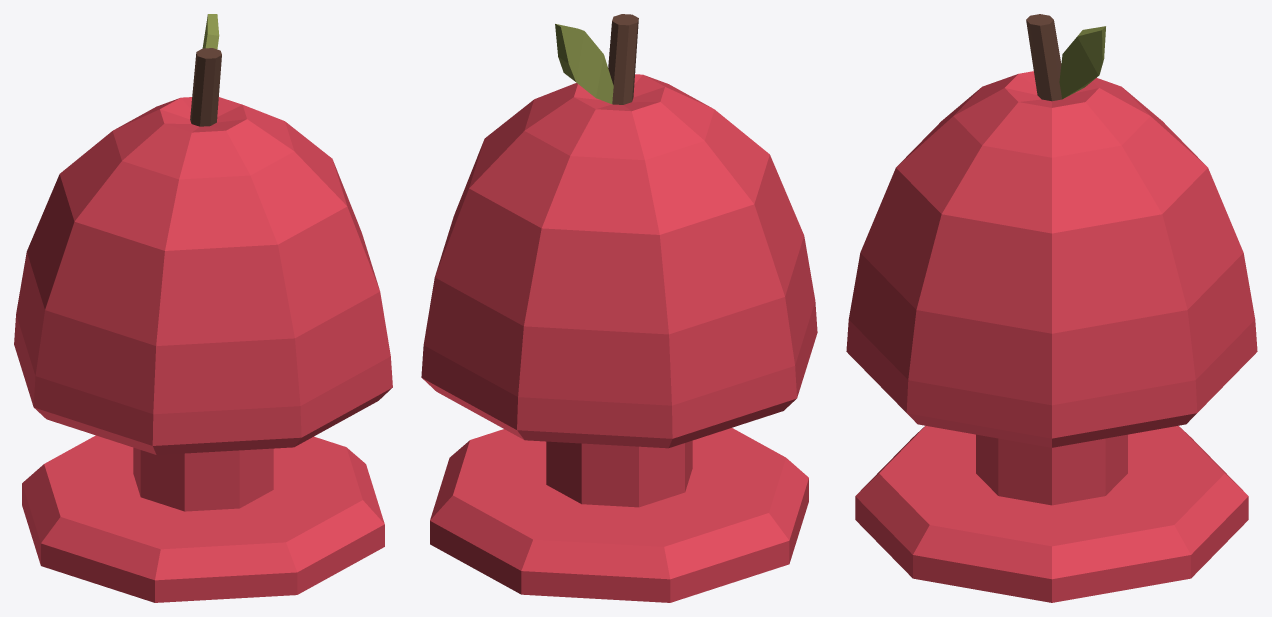
The model's file is VER 2 stopperberry.fbx.
3 renders of one model, left to right at view 1: azimuth 30°, elevation 25°; view 2: azimuth 150°, elevation 25°; view 3: azimuth 270°, elevation 25°, orthographic. The views are drawn at different scales.
Parts seen in each view (by area): view 1: stopperberry; view 2: stopperberry; view 3: stopperberry.
Part boxes in pixels (x1=…): stopperberry: x1=14, y1=14, x2=392, y2=602; stopperberry: x1=421, y1=14, x2=817, y2=602; stopperberry: x1=846, y1=14, x2=1257, y2=602.
Size of the model in its own units: 0.5442 by 0.5442 by 0.7661.
